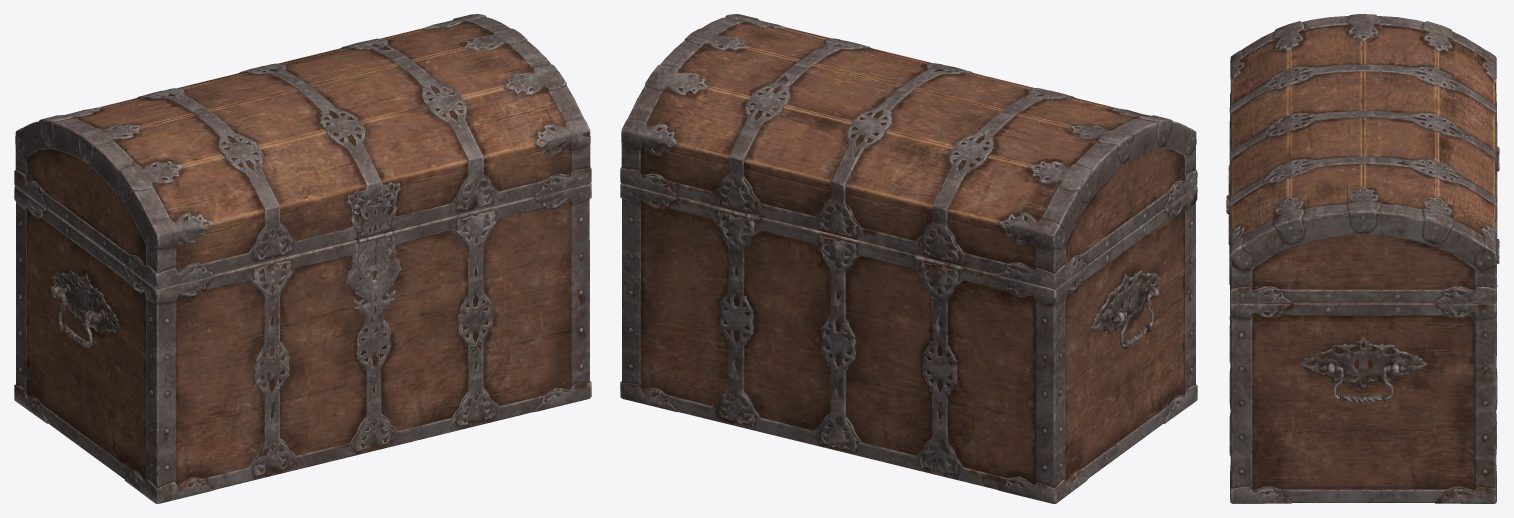
File: treasure_chest.glb
3 views of the same model, side by side, from view 1: azimuth 30°, elevation 25°; view 2: azimuth 150°, elevation 25°; view 3: azimuth 270°, elevation 25° (orthographic). The views are drawn at different scales.
Visible parts, largest first — view 1: treasure_chest_bottom, treasure_chest_lid, treasure_chest_lock, treasure_chest_handle_left; view 2: treasure_chest_bottom, treasure_chest_lid, treasure_chest_handle_left; view 3: treasure_chest_lid, treasure_chest_bottom, treasure_chest_handle_right.
Boxes of the visible parts, x1,y1,x2,y2 form: treasure_chest_bottom: (14, 183, 591, 503); treasure_chest_lid: (14, 14, 591, 288); treasure_chest_lock: (349, 233, 399, 322); treasure_chest_handle_left: (50, 285, 100, 348); treasure_chest_bottom: (620, 183, 1197, 503); treasure_chest_lid: (620, 14, 1197, 288); treasure_chest_handle_left: (1112, 285, 1161, 348); treasure_chest_lid: (1226, 14, 1499, 303); treasure_chest_bottom: (1229, 153, 1499, 503); treasure_chest_handle_right: (1320, 365, 1406, 402).
Bounding box in the file's own units: 0.959 × 0.6188 × 0.5226.
Materials: 1 (1 with a texture image).
